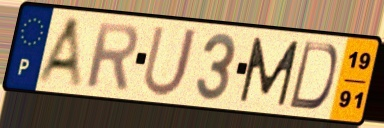3: (193, 31, 238, 103)
A: (32, 15, 85, 92)
D: (285, 39, 340, 112)
M: (237, 35, 302, 108)
R: (84, 19, 140, 92)
U: (139, 23, 201, 99)
